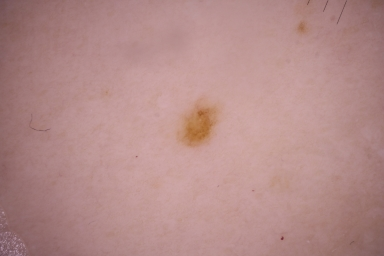nevus: (178, 101, 216, 147)
